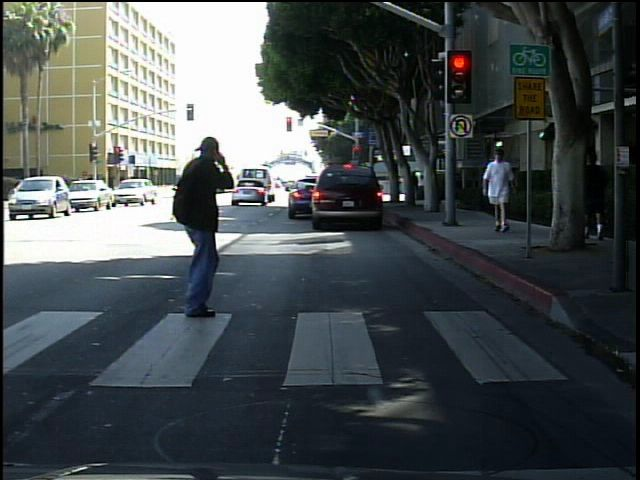person: (140, 121, 252, 335), (480, 145, 522, 240), (580, 137, 611, 246)
